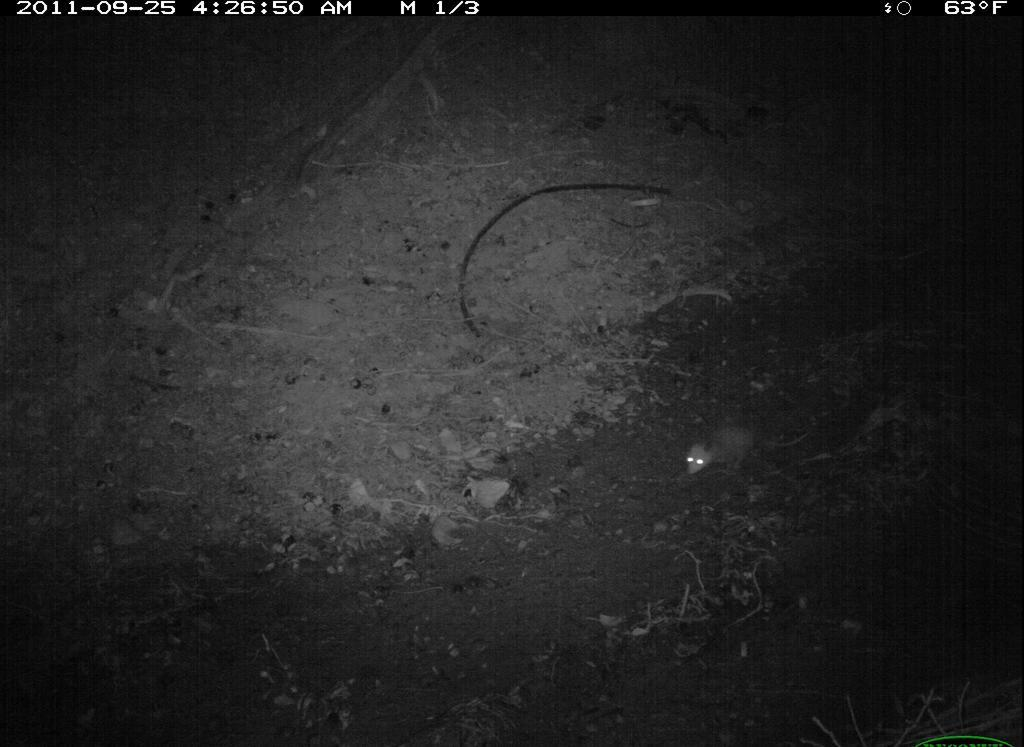opossum: (686, 427, 811, 489)
